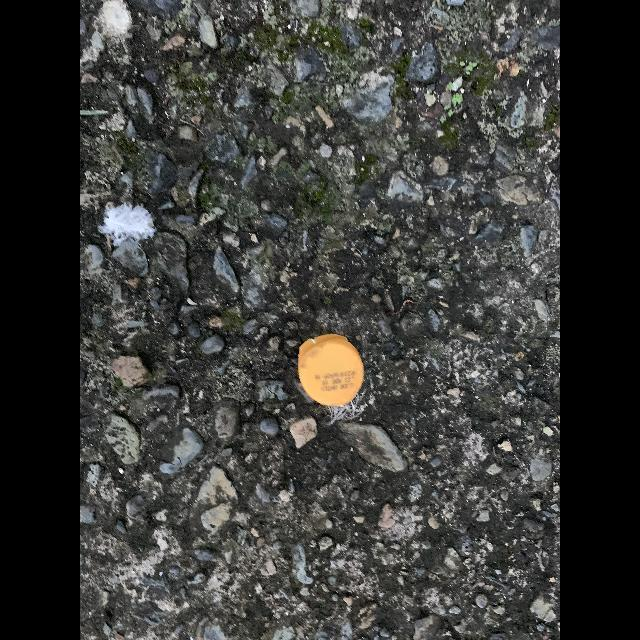Plastic: (297, 334, 363, 406)
